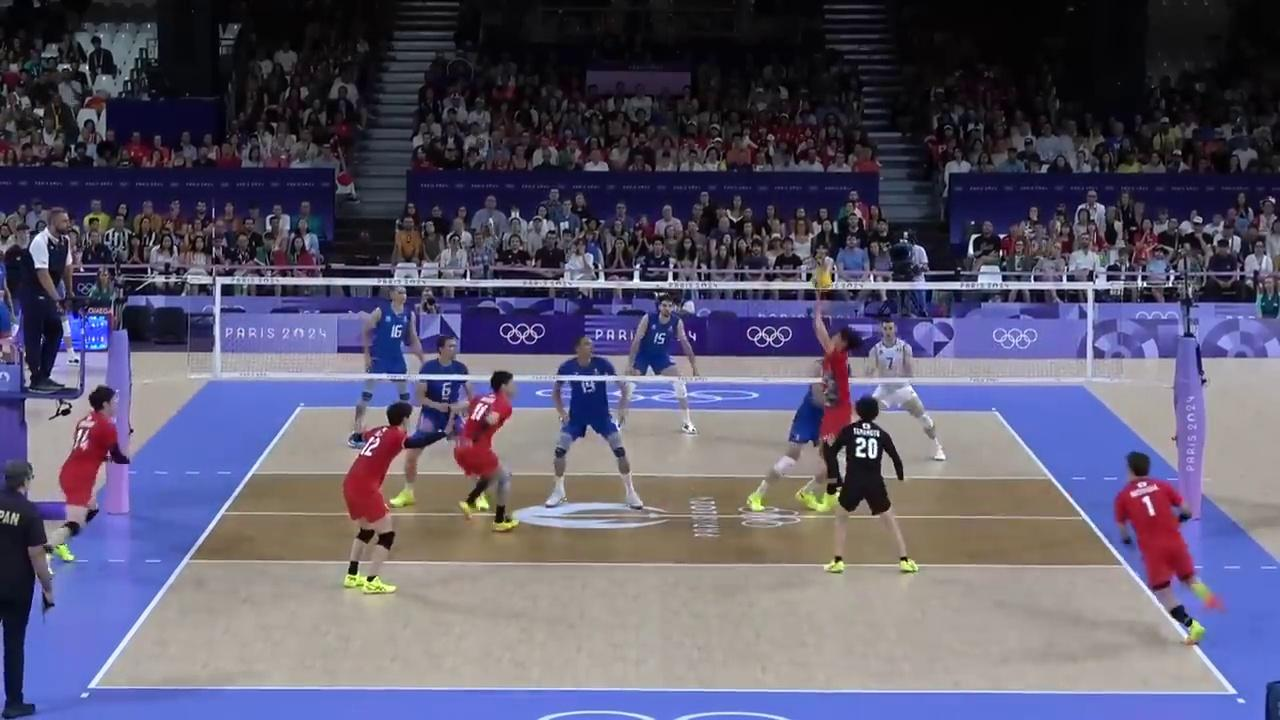ball: (811, 266, 834, 287)
